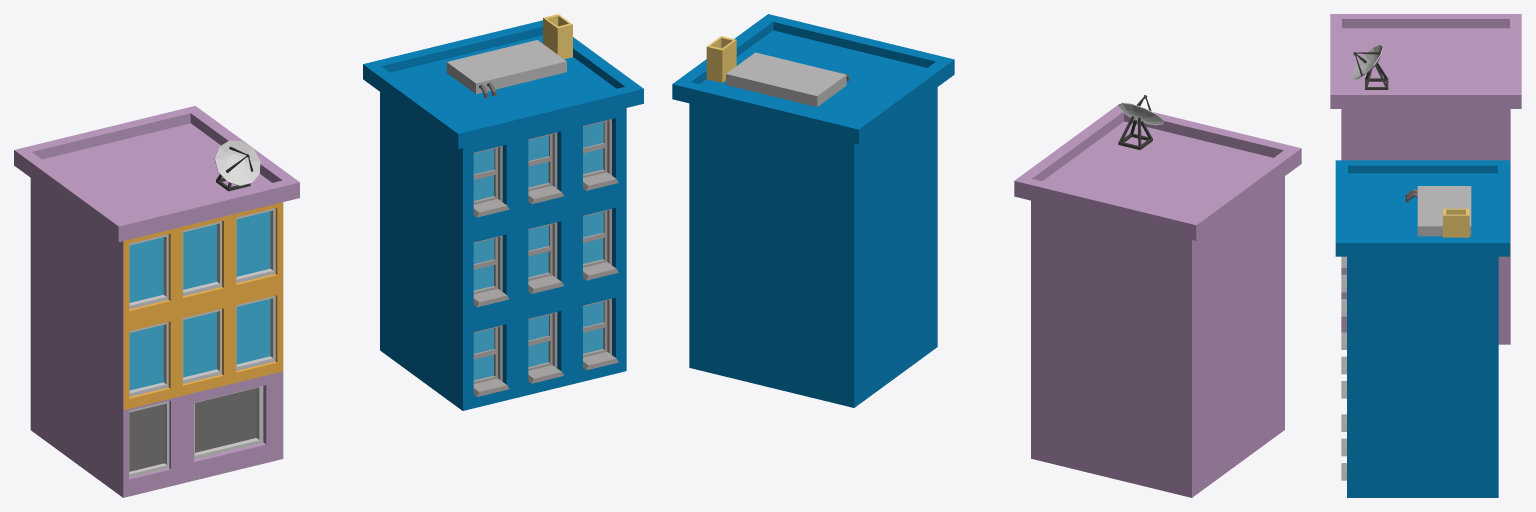
Rendered from Buildings.fbx.
3 renders of one model, left to right at view 1: azimuth 30°, elevation 25°; view 2: azimuth 150°, elevation 25°; view 3: azimuth 270°, elevation 25°, orthographic. The views are drawn at different scales.
Parts seen in each view (by area): view 1: Cube.002, Cube.001; view 2: Cube.002, Cube.001; view 3: Cube.001, Cube.002.
Part boxes in pixels (left/top/right/bottom): Cube.002: left=14, top=106, right=299, bottom=497; Cube.001: left=363, top=14, right=643, bottom=410; Cube.002: left=1014, top=95, right=1301, bottom=497; Cube.001: left=672, top=14, right=954, bottom=407; Cube.001: left=1335, top=160, right=1509, bottom=497; Cube.002: left=1330, top=14, right=1521, bottom=344.
Size of the model in its own units: 1319 by 739 by 453.
